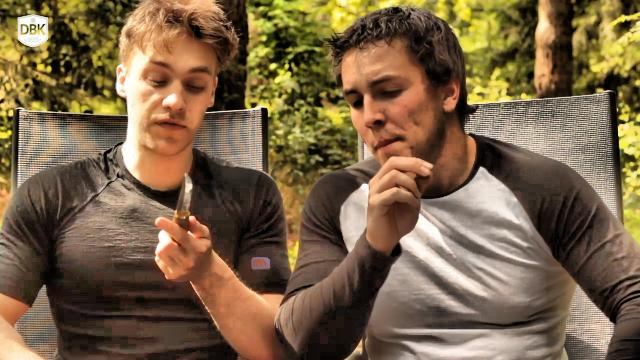knife: (142, 160, 216, 264)
